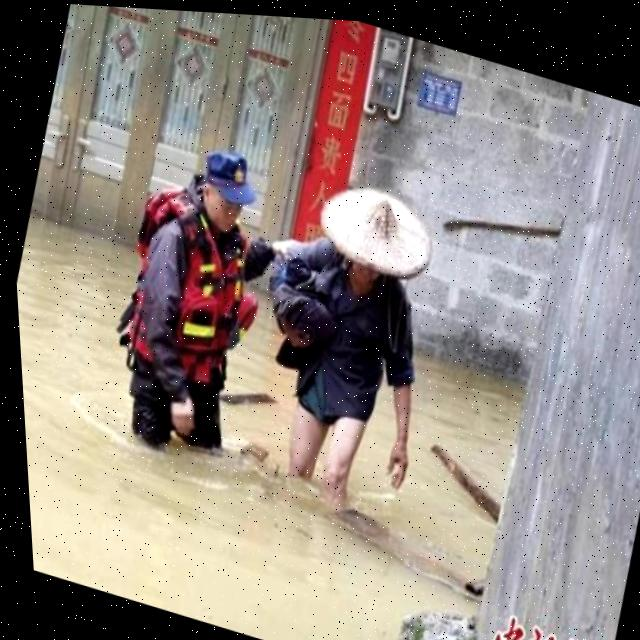civilian: (208, 155, 497, 563)
rescuer: (56, 110, 312, 494)
